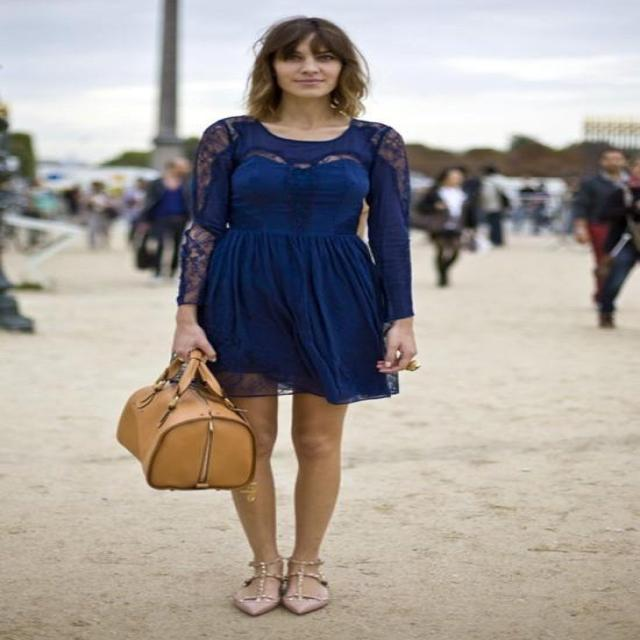dress: (173, 112, 414, 404)
